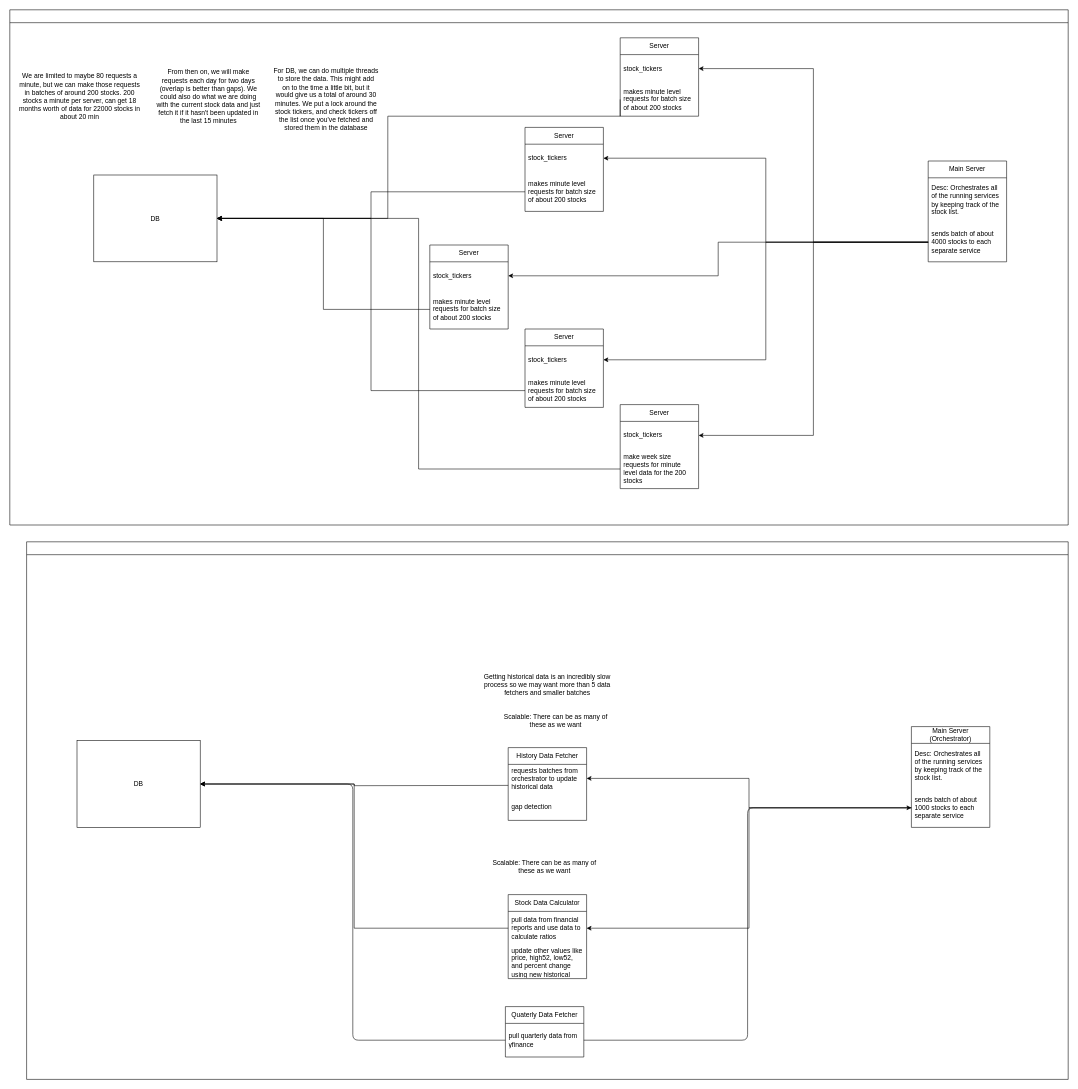
Some shapes in this 1078 by 1089 pixel diagram are drawn without their labels. The shapes that lost their labels are listed below. From the top down, each one's box as (x1, y1, x2, y2) in pixels, then its label:
(9, 9, 1068, 525): Stock Data Fetchers (v1)
(26, 541, 1068, 1079): Data Fetchers/Calculators Final design
